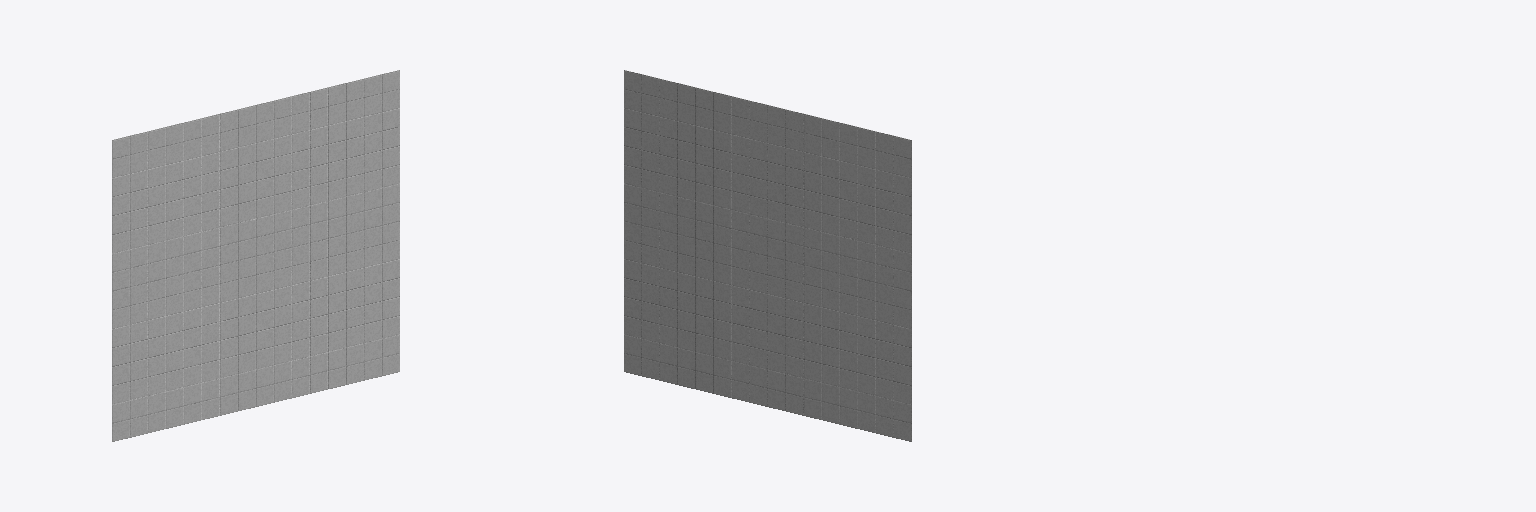
3 renders of one model, left to right at view 1: azimuth 30°, elevation 25°; view 2: azimuth 150°, elevation 25°; view 3: azimuth 270°, elevation 25°, orthographic.
Visible parts, largest first — view 1: Box003; view 2: Box003; view 3: none.
Boxes of the visible parts, x1,y1,x2,y2 form: Box003: [112, 70, 399, 441]; Box003: [624, 70, 911, 441].
Size of the model in its own units: 3500 by 3500 by 10.
1 materials, 1 textured.